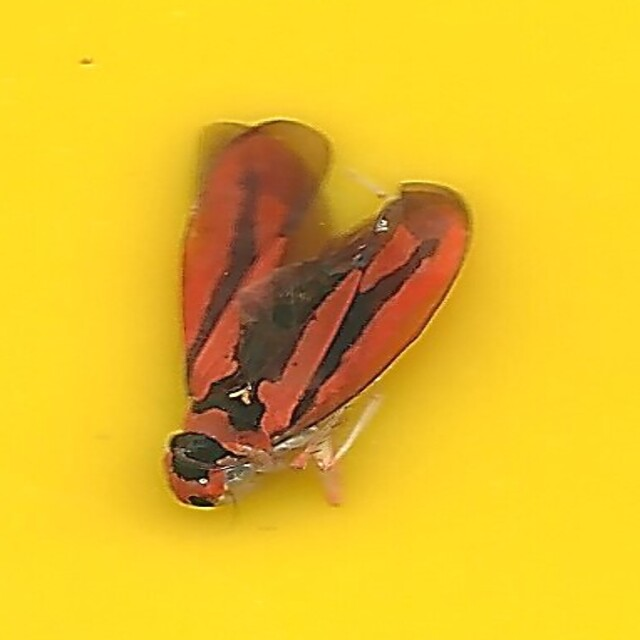Hemiptera: (168, 122, 472, 518)
